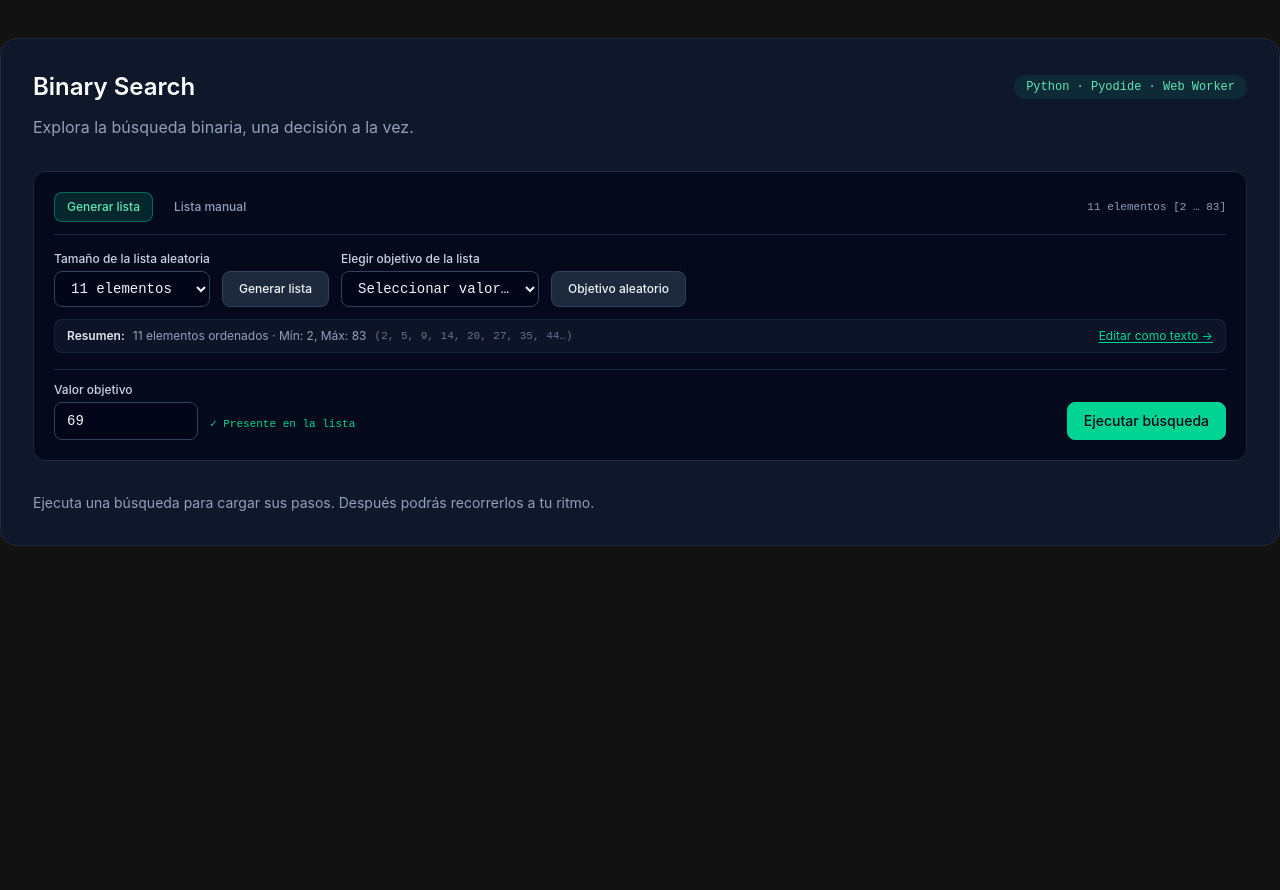
Scenario: Visualización por eventos › pausa al mover la línea de tiempo e invalida el avance pendiente
Click the button "Ejecutar búsqueda" at point(1146, 421), box [1067,402,1226,440]
(page scrolled)
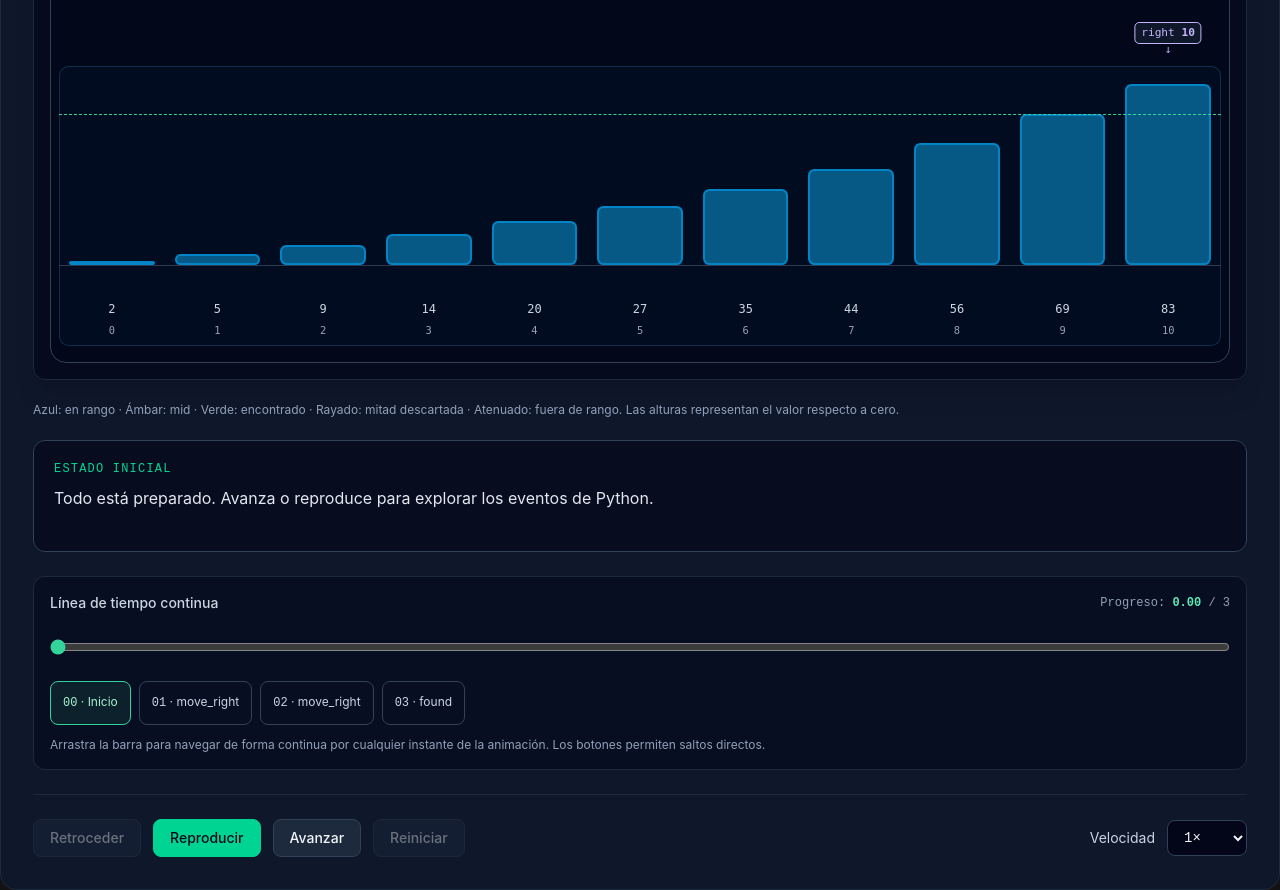
Click the button "Reproducir" at point(207, 838), box [153,819,261,857]
Wait 700 ms
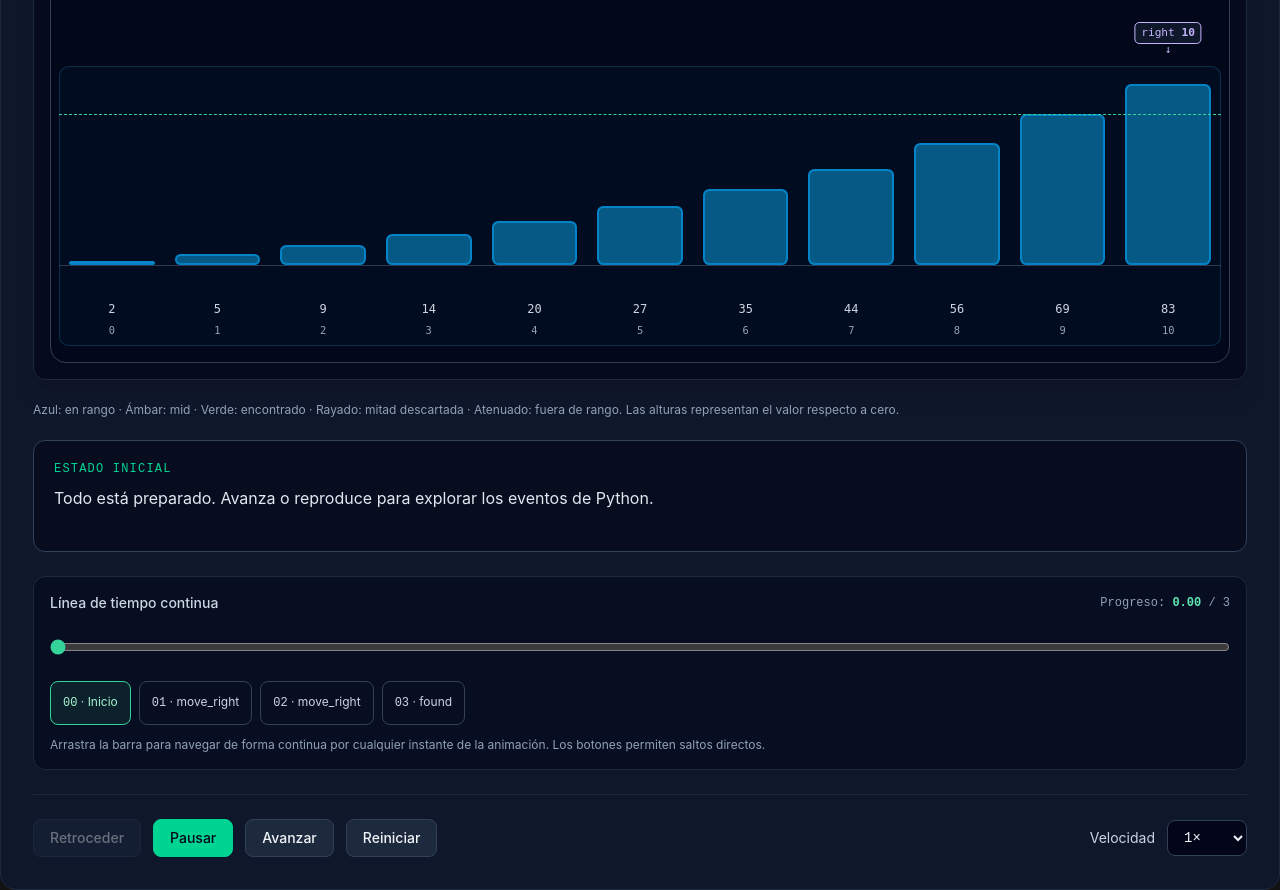
Set the slider labelled "Línea de tiempo continua" to "2" at point(834, 647), box [50,625,1230,669]
Wait 5000 ms
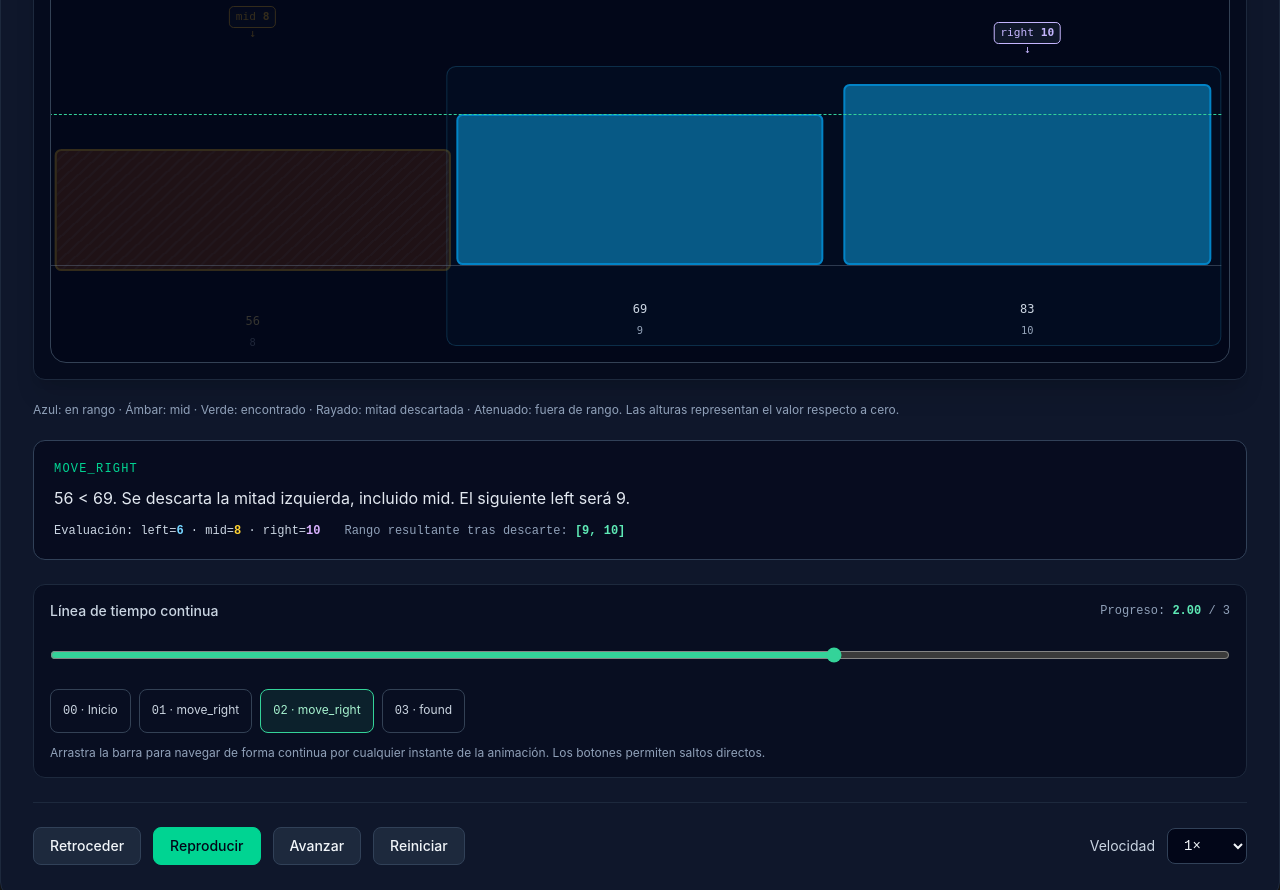
Check: the button "Reproducir" is shown, box [153,827,261,865]
Click the button "Retroceder" at point(87, 846), box [33,827,141,865]
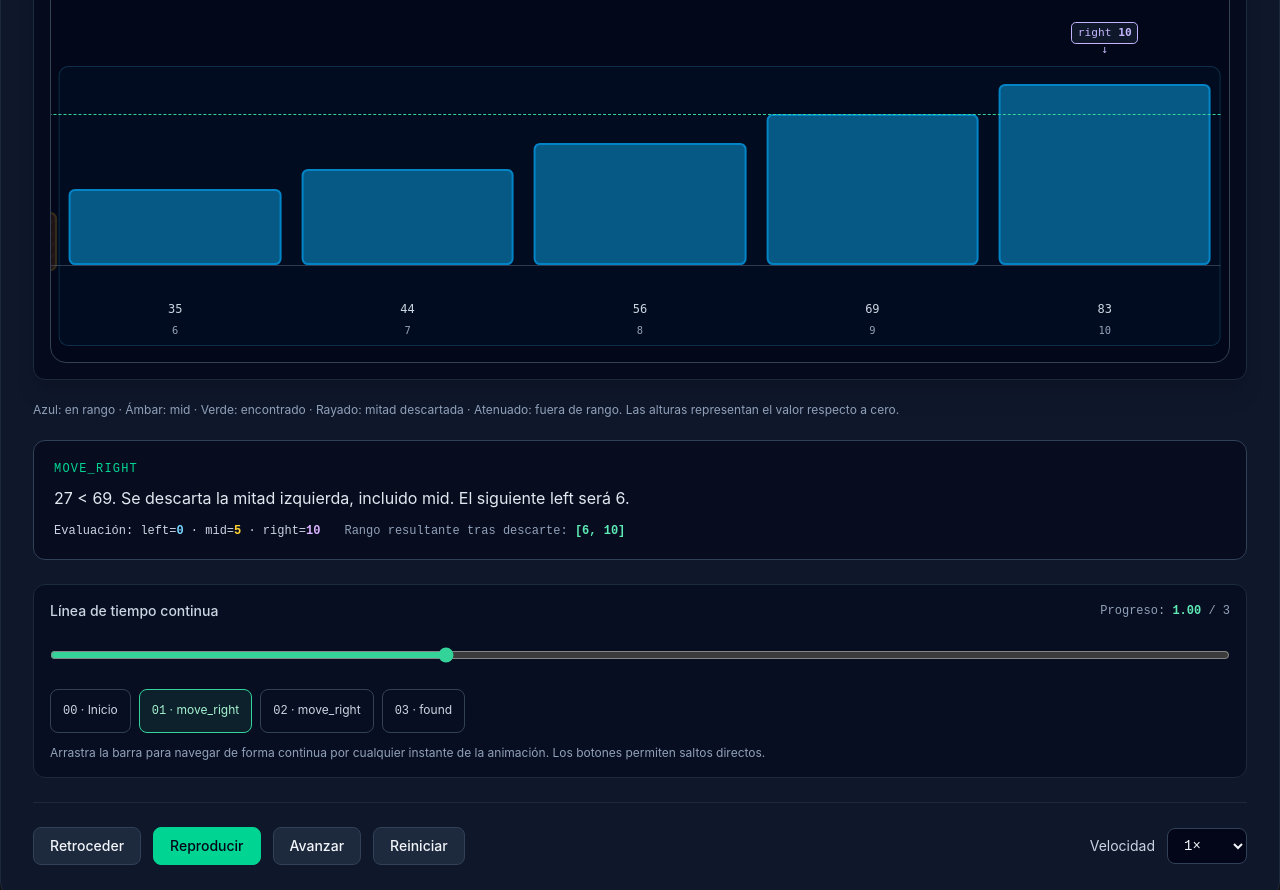
Check: the slider holds "1", box [50,633,1230,677]
